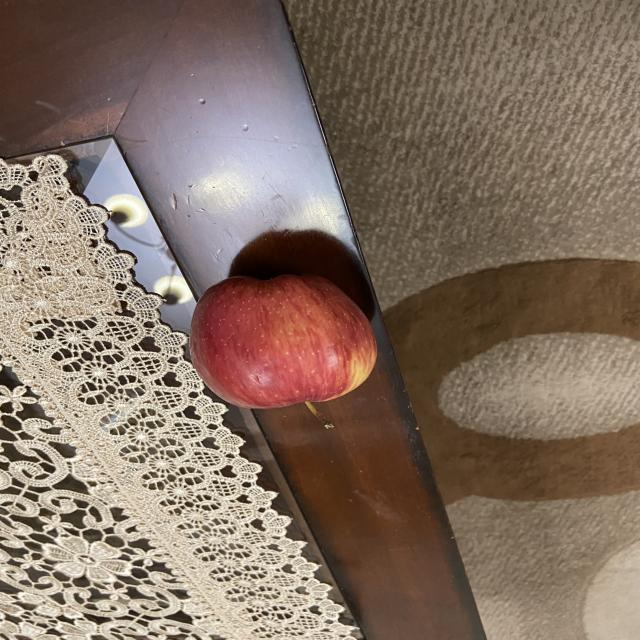apple: (182, 267, 382, 434)
